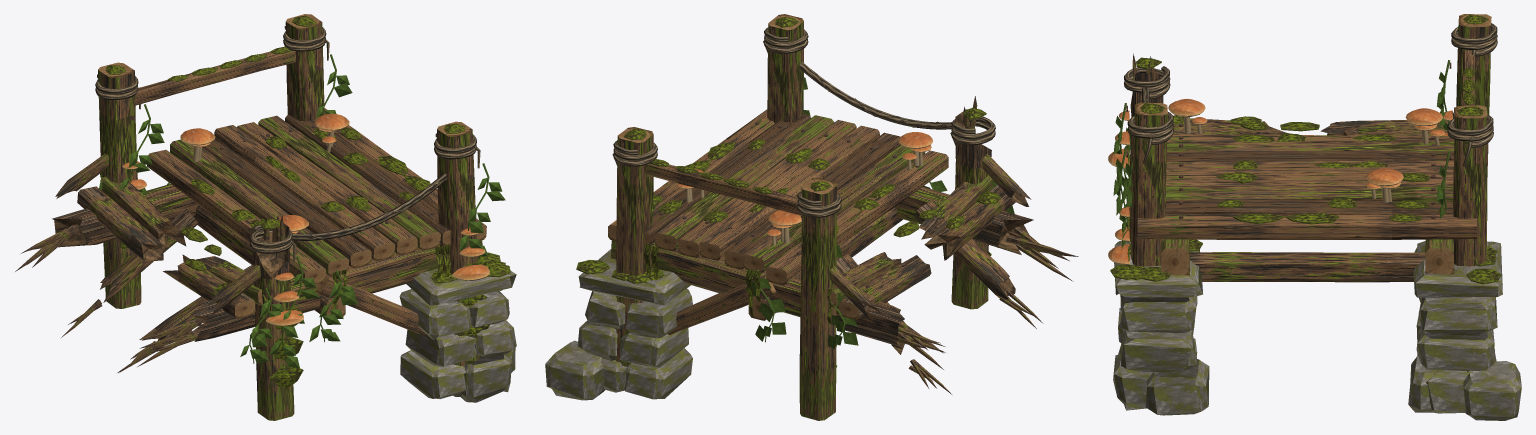
The model's file is SM_BrokenBridge_Right.glb.
The picture shows the model from 3 angles, left to right: view 1: azimuth 30°, elevation 25°; view 2: azimuth 150°, elevation 25°; view 3: azimuth 270°, elevation 25°; orthographic projection. The views are drawn at different scales.
Parts seen in each view (by area): view 1: SM_BrokenBridge_Right; view 2: SM_BrokenBridge_Right; view 3: SM_BrokenBridge_Right.
Part boxes in pixels (x1,y1,x2,y2): SM_BrokenBridge_Right: (15, 14, 516, 420); SM_BrokenBridge_Right: (545, 14, 1078, 420); SM_BrokenBridge_Right: (1108, 14, 1521, 420).
Bounding box in the file's own units: 4.68 × 3.2 × 4.2.
Materials: 1 (1 with a texture image).
